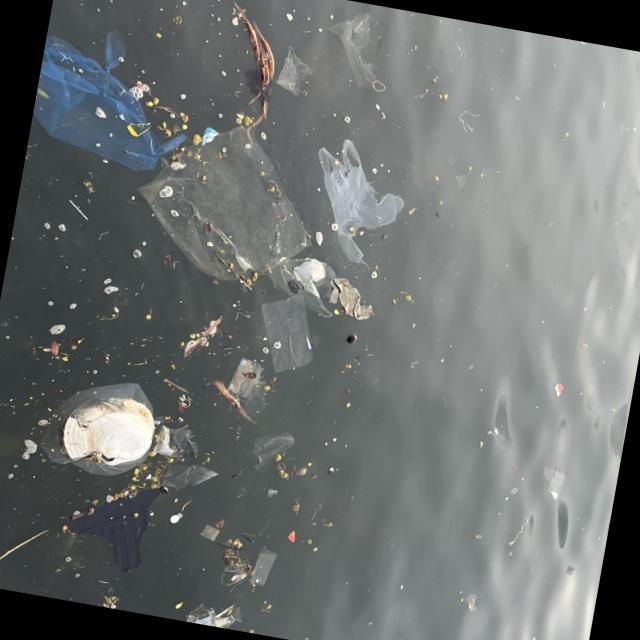foam: (59, 403, 154, 472)
plastic bag: (35, 35, 182, 168), (319, 128, 403, 267), (272, 251, 342, 318)
